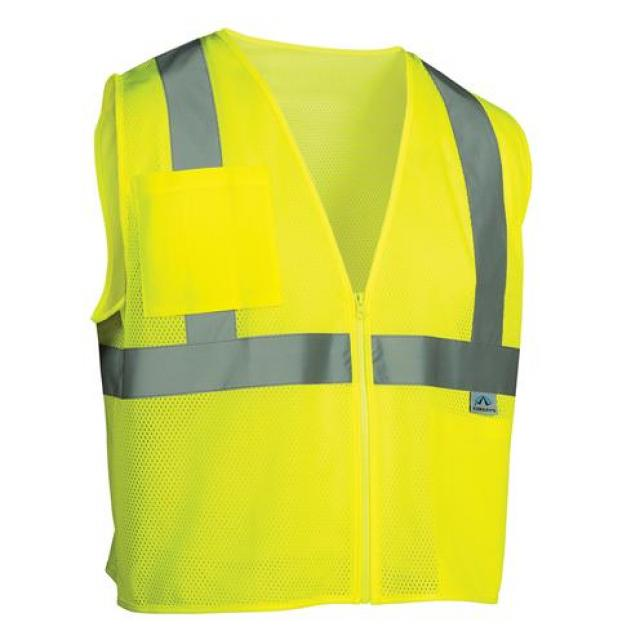Reflective-Jacket: (45, 17, 569, 640)
